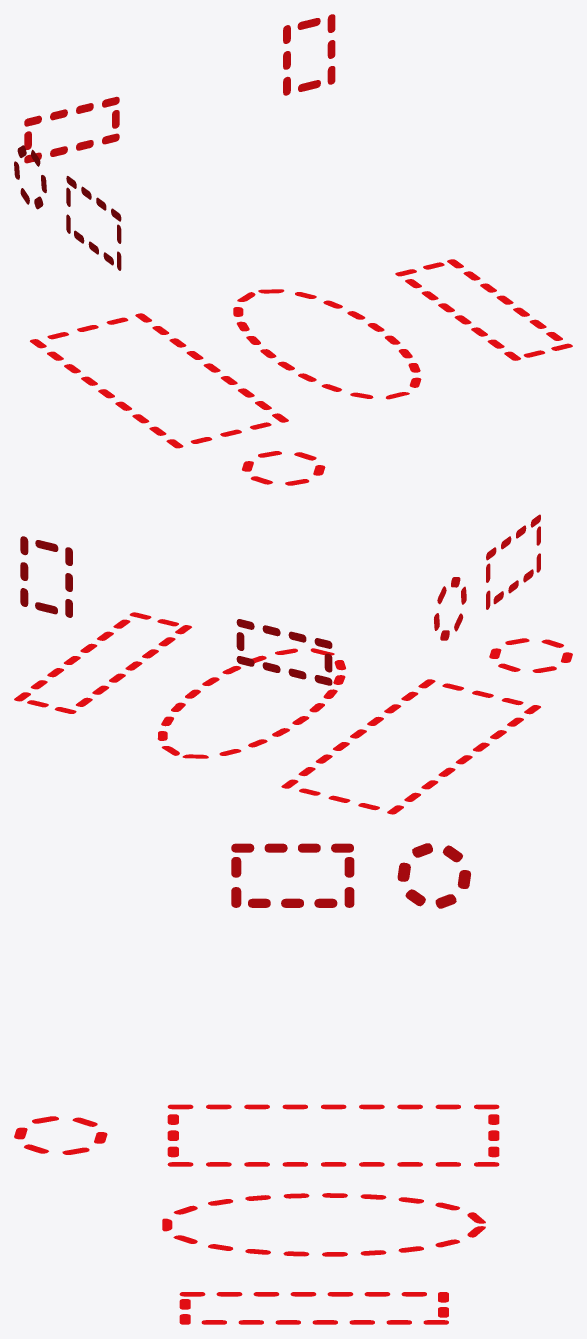
The model's file is Contour 2.fbx.
The picture shows the model from 3 angles, top to bottom: view 1: azimuth 30°, elevation 25°; view 2: azimuth 150°, elevation 25°; view 3: azimuth 270°, elevation 25°; orthographic projection. The views are drawn at different scales.
Parts seen in each view (by area): view 1: Plane.047, Plane.029, Plane.027, Plane.031, Plane.033, Cylinder.020; view 2: Plane.047, Plane.029, Plane.027, Plane.031, Plane.033, Cylinder.020, Plane.044, Plane.043, Cylinder.019, Plane.041, Plane.040; view 3: Plane.047, Cylinder.019, Plane.029, Plane.027, Plane.031, Plane.033, Plane.035, Cylinder.020, Plane.036.
Part boxes in pixels (x1,y1,x2,y2): Plane.047: (233, 289, 421, 399); Plane.029: (30, 339, 183, 448); Plane.027: (135, 313, 288, 422); Plane.031: (405, 279, 520, 360); Plane.033: (447, 259, 562, 340); Cylinder.020: (242, 451, 325, 485); Plane.047: (157, 648, 345, 758); Plane.029: (387, 705, 540, 814); Plane.027: (281, 679, 435, 788); Plane.031: (76, 625, 191, 706); Plane.033: (14, 619, 130, 701); Cylinder.020: (489, 638, 572, 672); Plane.044: (236, 619, 332, 648); Plane.043: (236, 656, 332, 685); Cylinder.019: (434, 577, 466, 640); Plane.041: (20, 536, 28, 606); Plane.040: (65, 547, 72, 617); Plane.047: (162, 1193, 485, 1256); Cylinder.019: (397, 843, 470, 908); Plane.029: (167, 1104, 499, 1109); Plane.027: (167, 1162, 499, 1166); Plane.031: (179, 1292, 426, 1296); Plane.033: (201, 1320, 448, 1324); Plane.035: (231, 843, 353, 852); Cylinder.020: (14, 1116, 107, 1154); Plane.036: (248, 898, 337, 907).
Bounding box in the file's own units: 180 × 88.23 × 181.
